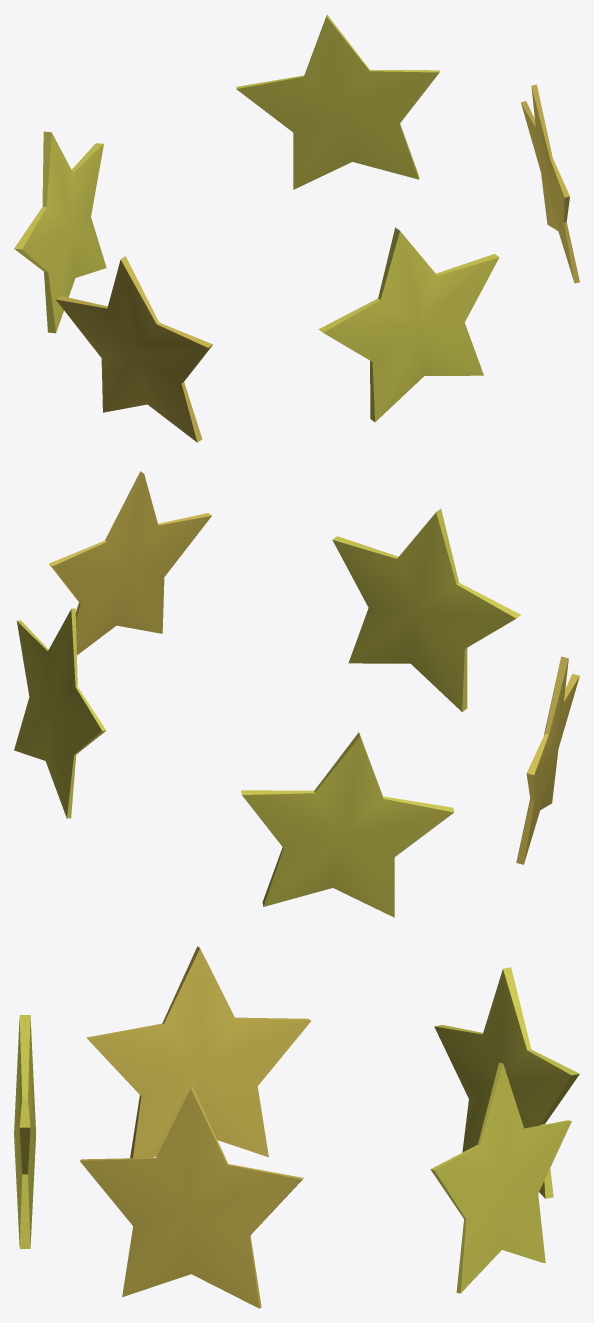
The model's file is DizzyStarsEffect.fbx.
The picture shows the model from 3 angles, top to bottom: view 1: azimuth 30°, elevation 25°; view 2: azimuth 150°, elevation 25°; view 3: azimuth 270°, elevation 25°; orthographic projection. The views are drawn at different scales.
Visible parts, largest first — view 1: pCylinder10; view 2: pCylinder10; view 3: pCylinder10.
Part boxes in pixels (left/top/right/bottom): pCylinder10: left=14, top=14, right=579, bottom=442; pCylinder10: left=14, top=471, right=579, bottom=917; pCylinder10: left=14, top=946, right=579, bottom=1308.
Bounding box in the file's own units: 5.05 × 2.59 × 4.6.
